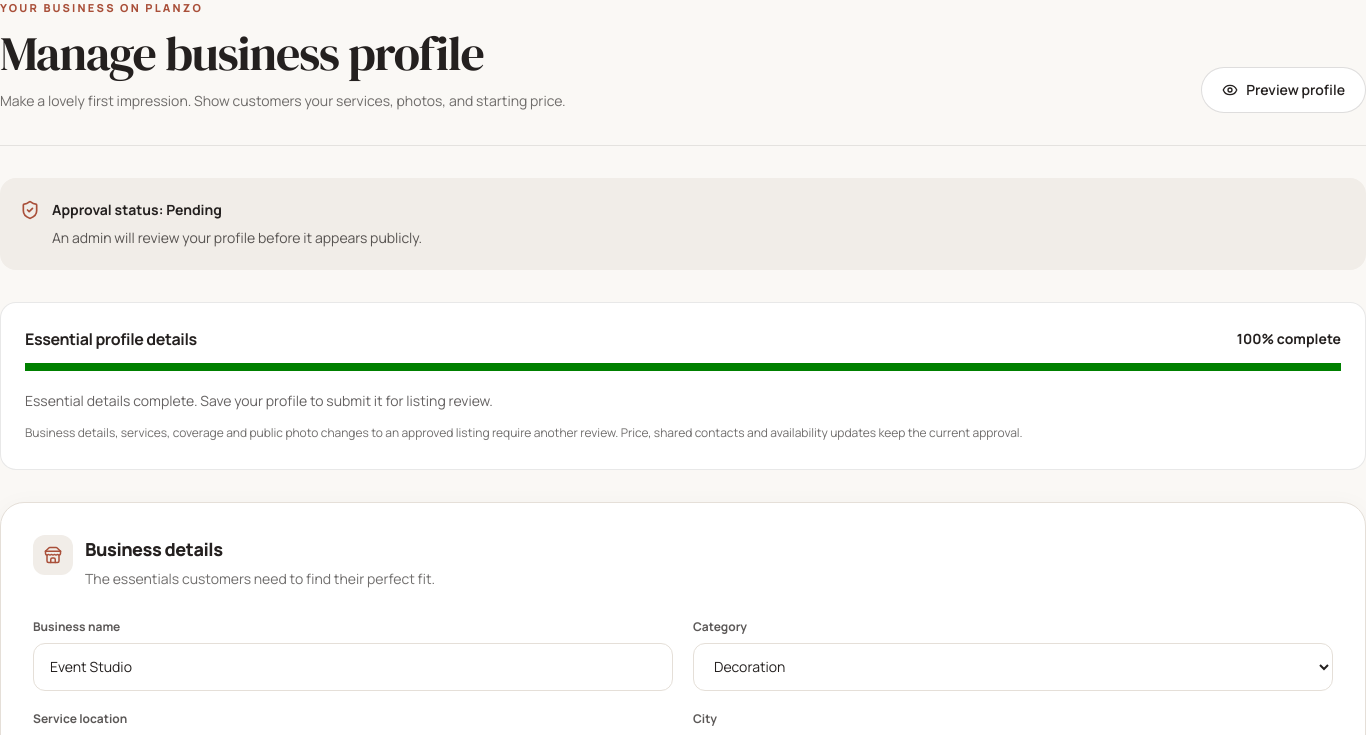
Test case: business profile editor › previews current unsaved public details without exposing contacts or publishing a pending profile
Replace the text in the field labelled "Business name" with "New unsaved business name": (353, 666) [33,642,673,690]
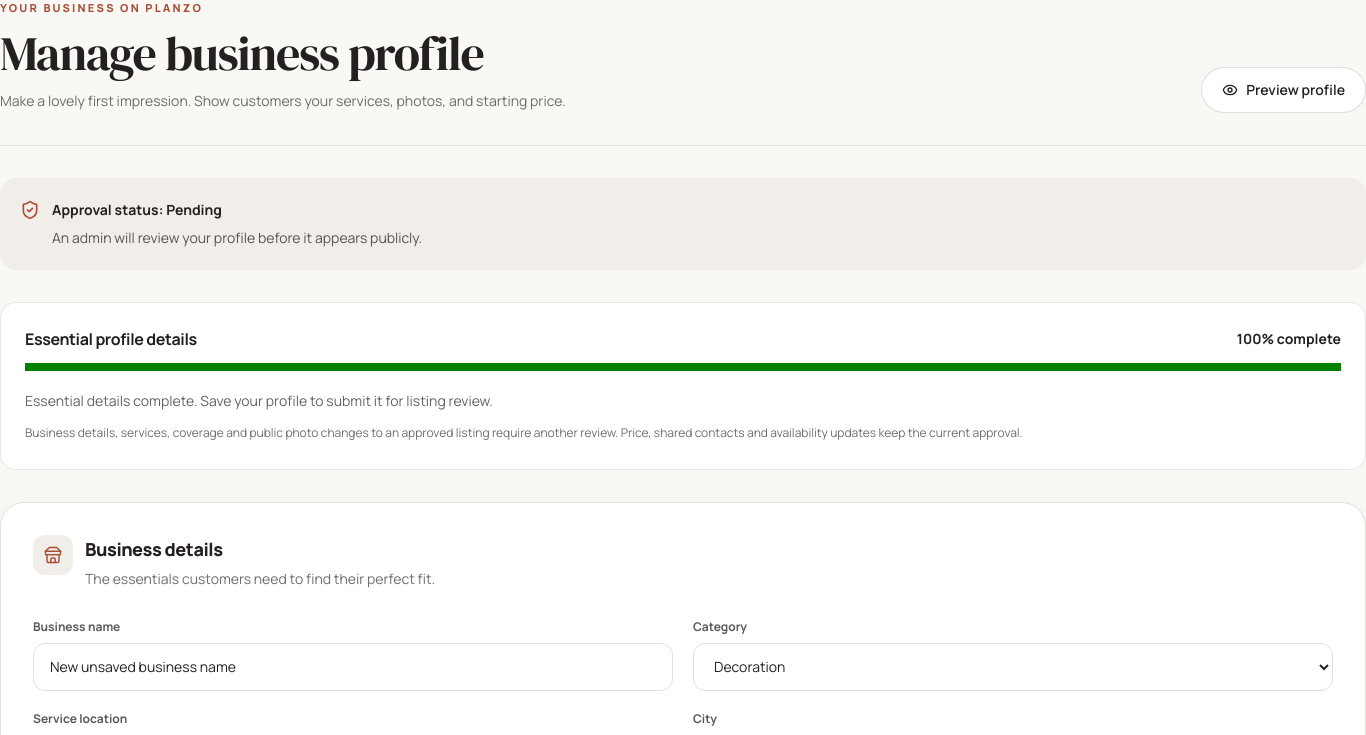
Click the button "Preview profile": (1284, 90) [1201,66,1365,112]
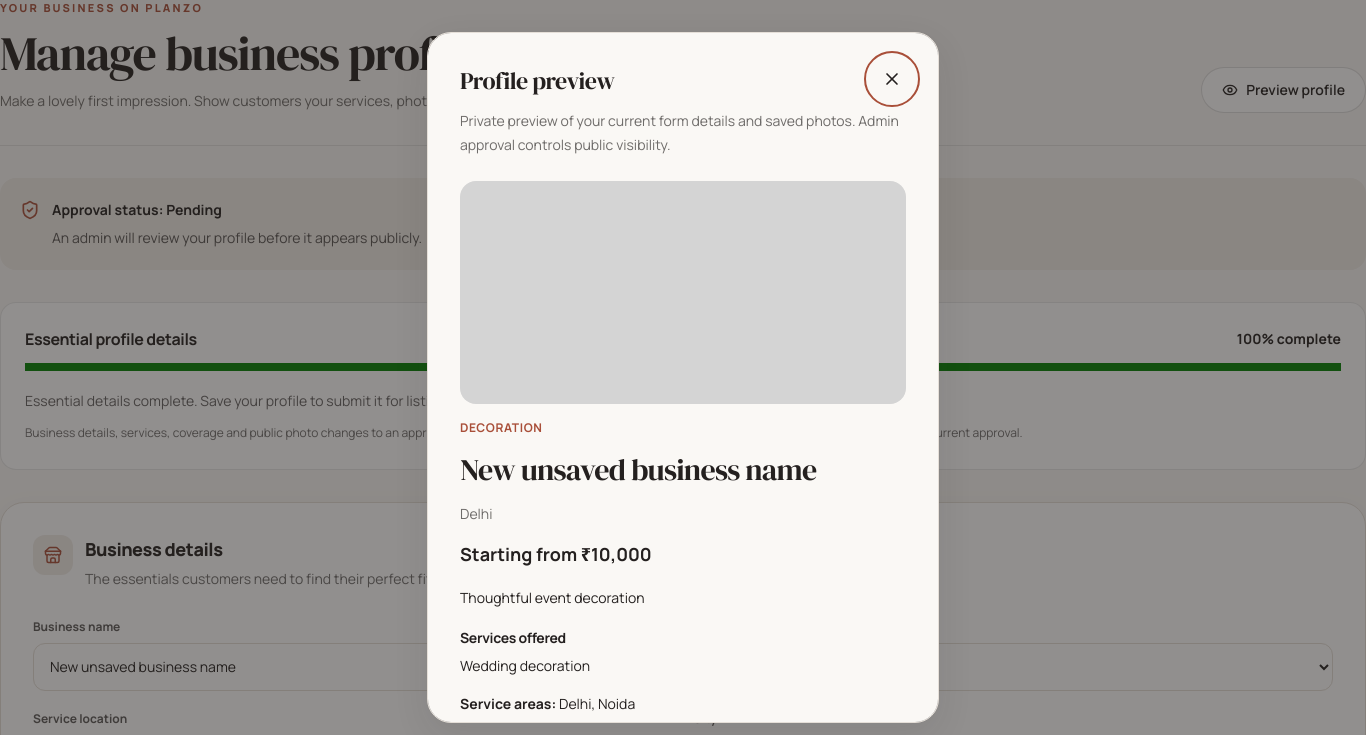
Expected: the dialog "Profile preview" does not show "business@example.test", [427,32,939,723]
Result: the heading "New unsaved business name" is shown at [460,449,816,490]
Result: the text "Service areas: Delhi, Noida" is shown at [460,694,635,713]
